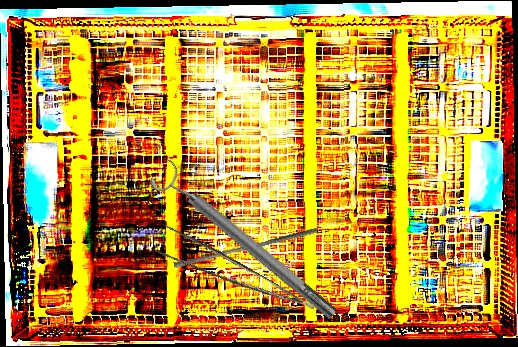Fixation Ring: (146, 156, 345, 330)
Pusher: (173, 221, 318, 274)
Tissue Forceps: (146, 218, 316, 334)
